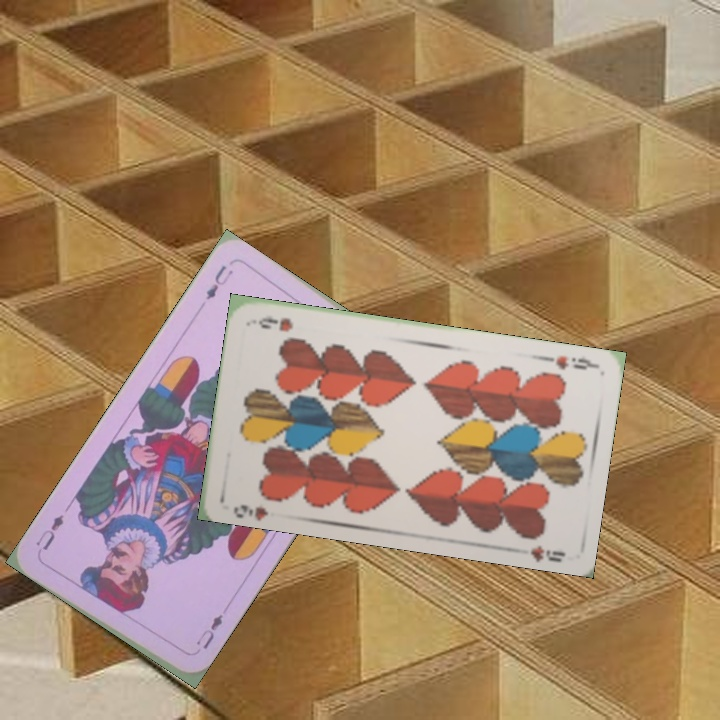EU: (201, 261, 236, 303), (192, 610, 226, 653)
H9: (552, 351, 598, 372), (229, 500, 271, 521)
